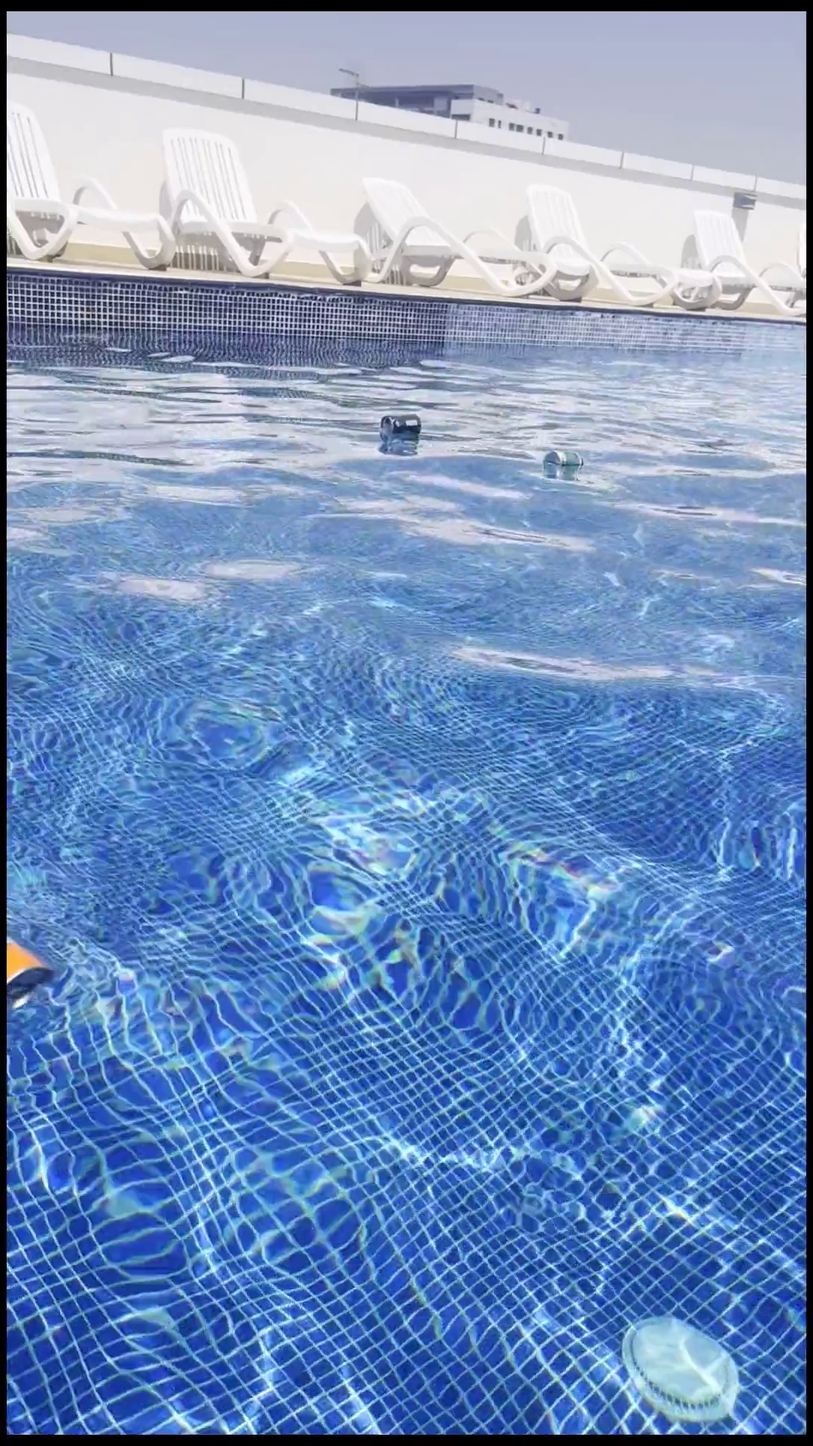debris: (8, 916, 49, 1006), (376, 400, 422, 460), (539, 441, 582, 487)
